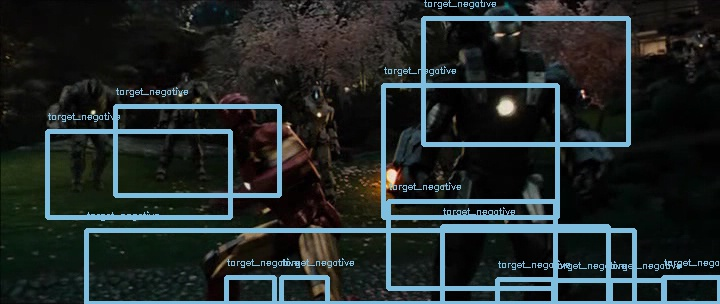person: (207, 90, 254, 140), (206, 90, 253, 140), (208, 90, 255, 140), (207, 89, 254, 139), (207, 91, 254, 141)
target_negative: (351, 19, 713, 274), (335, 140, 678, 150), (521, 14, 566, 82), (420, 224, 445, 259), (674, 170, 683, 207)
